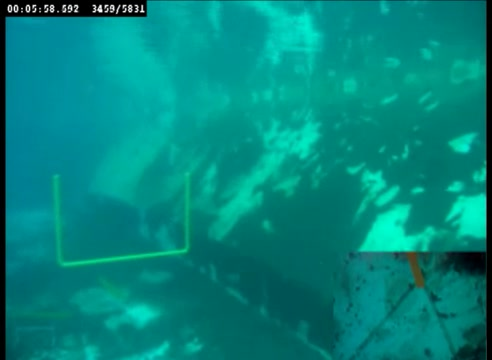channel: (49, 170, 201, 276)
